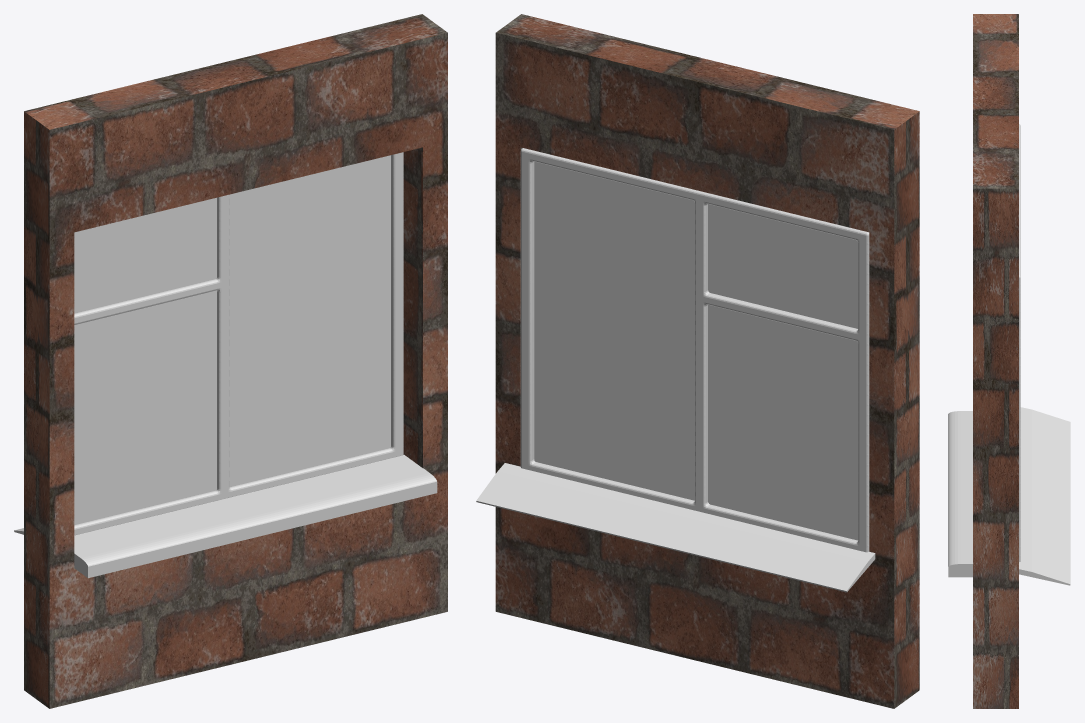
File: WindowAndWall.fbx
The picture shows the model from 3 angles, left to right: view 1: azimuth 30°, elevation 25°; view 2: azimuth 150°, elevation 25°; view 3: azimuth 270°, elevation 25°; orthographic projection. The views are drawn at different scales.
Visible parts, largest first — view 1: Cube.001, Cube.003, Cube.004, Cube.005, Cube.002, Cube; view 2: Cube.001, Cube.003, Cube.004, Cube.002, Cube.006, Cube; view 3: Cube.001, Cube.006, Cube.005, Cube.002.
Part boxes in pixels (x1,y1,x2,y2): Cube.001: [24, 14, 447, 708]; Cube.003: [229, 155, 390, 487]; Cube.004: [74, 290, 216, 525]; Cube.005: [74, 455, 437, 578]; Cube.002: [74, 152, 403, 535]; Cube: [74, 197, 216, 313]; Cube.001: [495, 14, 919, 708]; Cube.003: [534, 161, 694, 500]; Cube.004: [708, 304, 858, 540]; Cube.002: [520, 148, 869, 552]; Cube.006: [476, 463, 875, 592]; Cube: [708, 204, 858, 328]; Cube.001: [973, 14, 1018, 708]; Cube.006: [1019, 407, 1070, 585]; Cube.005: [948, 411, 972, 577]; Cube.002: [1019, 124, 1020, 561].
Bounding box in the file's own units: 180 × 250 × 53.17.
